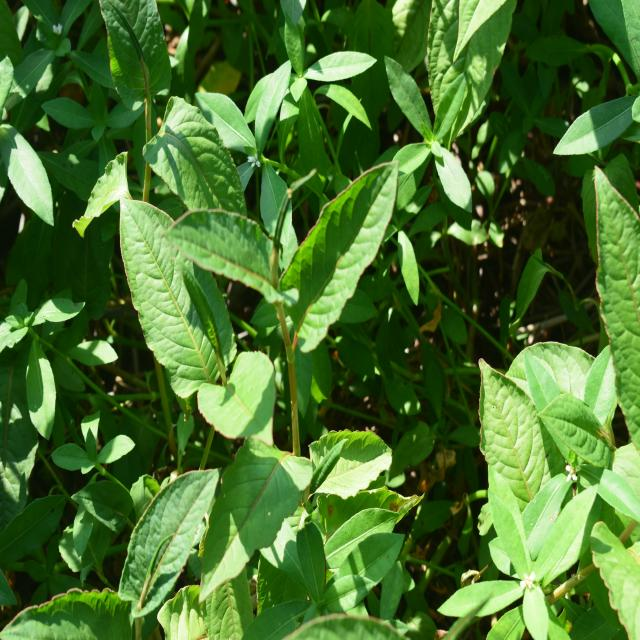Chinese_knotweed: (107, 162, 421, 418)
